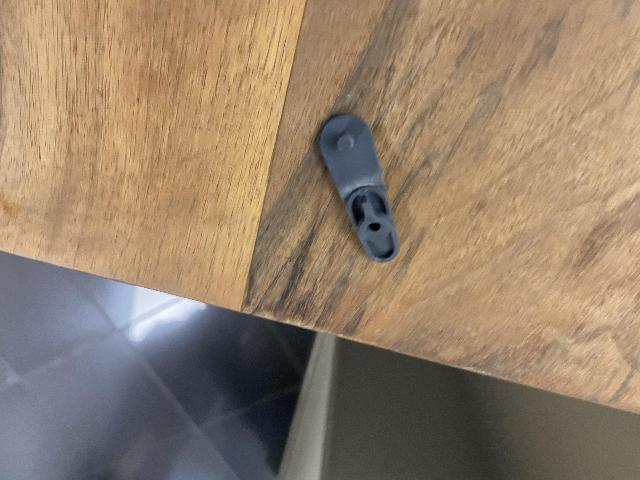Plastik: (316, 106, 408, 265)
